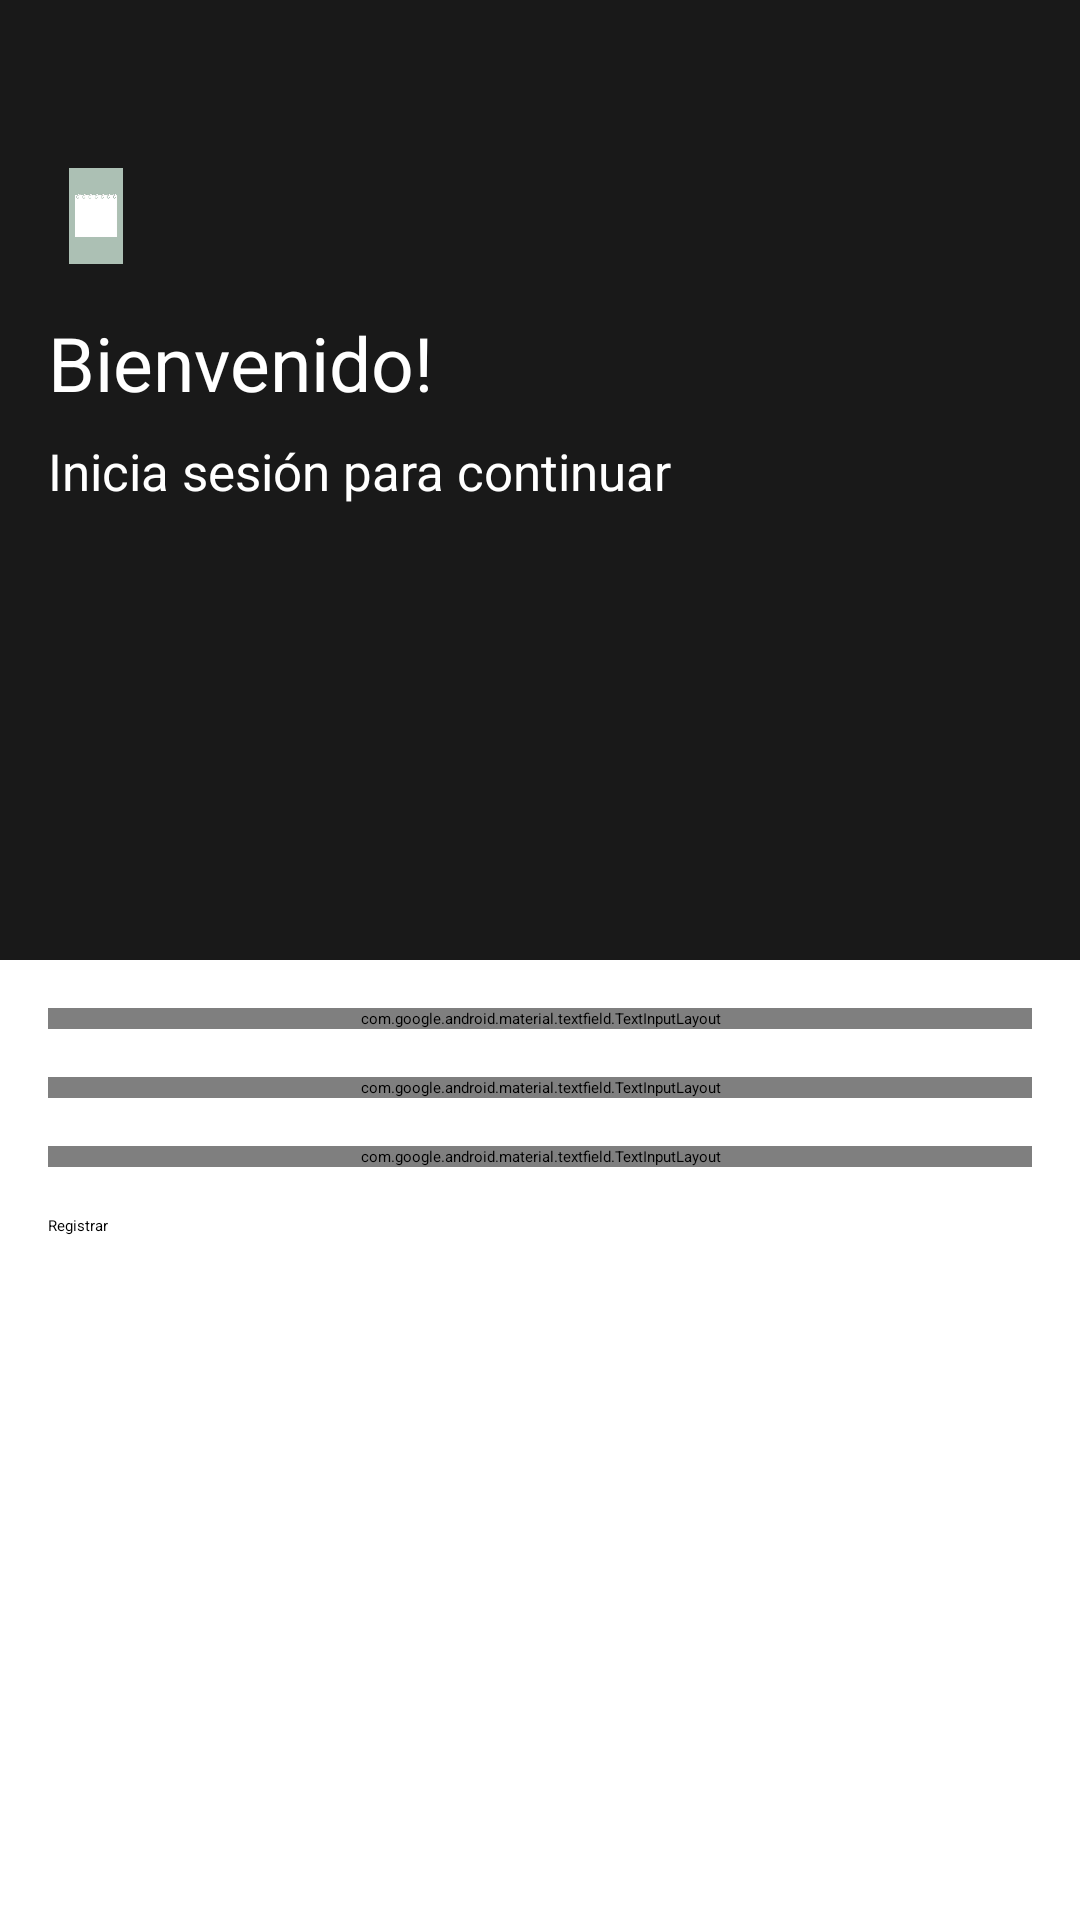

Where to tap for icons on this 1080 x 1920 app screen, as point (x, y):
notebook: point (96, 216)
